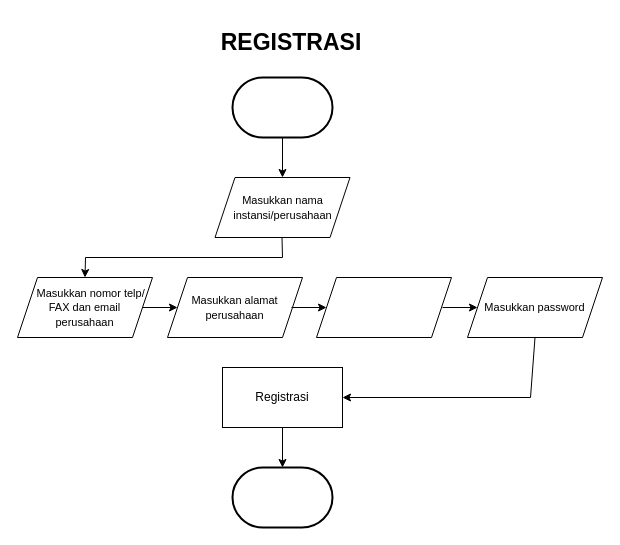
Some shapes in this 620 by 545 pixel diagram are drawn without their labels. The shapes that lost their labels are listed below. From the top down, each one's box as (x1, y1, x2, y2) in pixels, then its label:
(231, 76, 333, 138): Mulai
(316, 276, 452, 338): Masukkan username
(231, 466, 333, 528): Selesai
